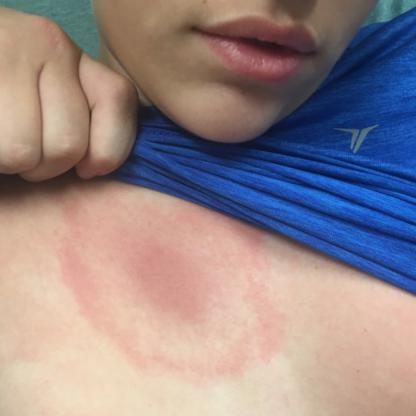Tick: (47, 176, 294, 385)
